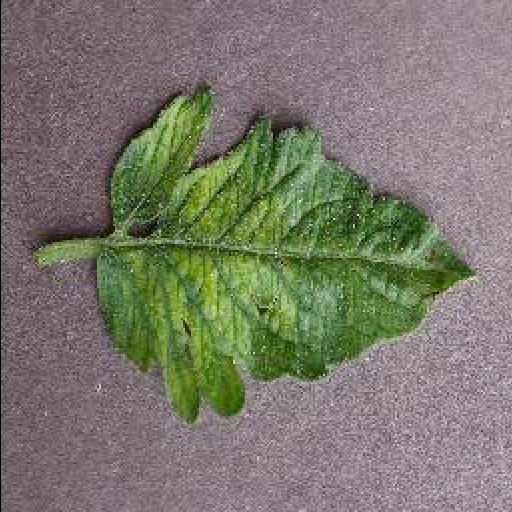disease_tomato: (96, 80, 480, 426)
